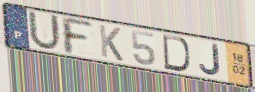5: (130, 28, 157, 67)
D: (161, 33, 192, 73)
F: (58, 15, 95, 57)
J: (198, 43, 223, 77)
K: (97, 23, 125, 63)
U: (26, 9, 63, 52)
